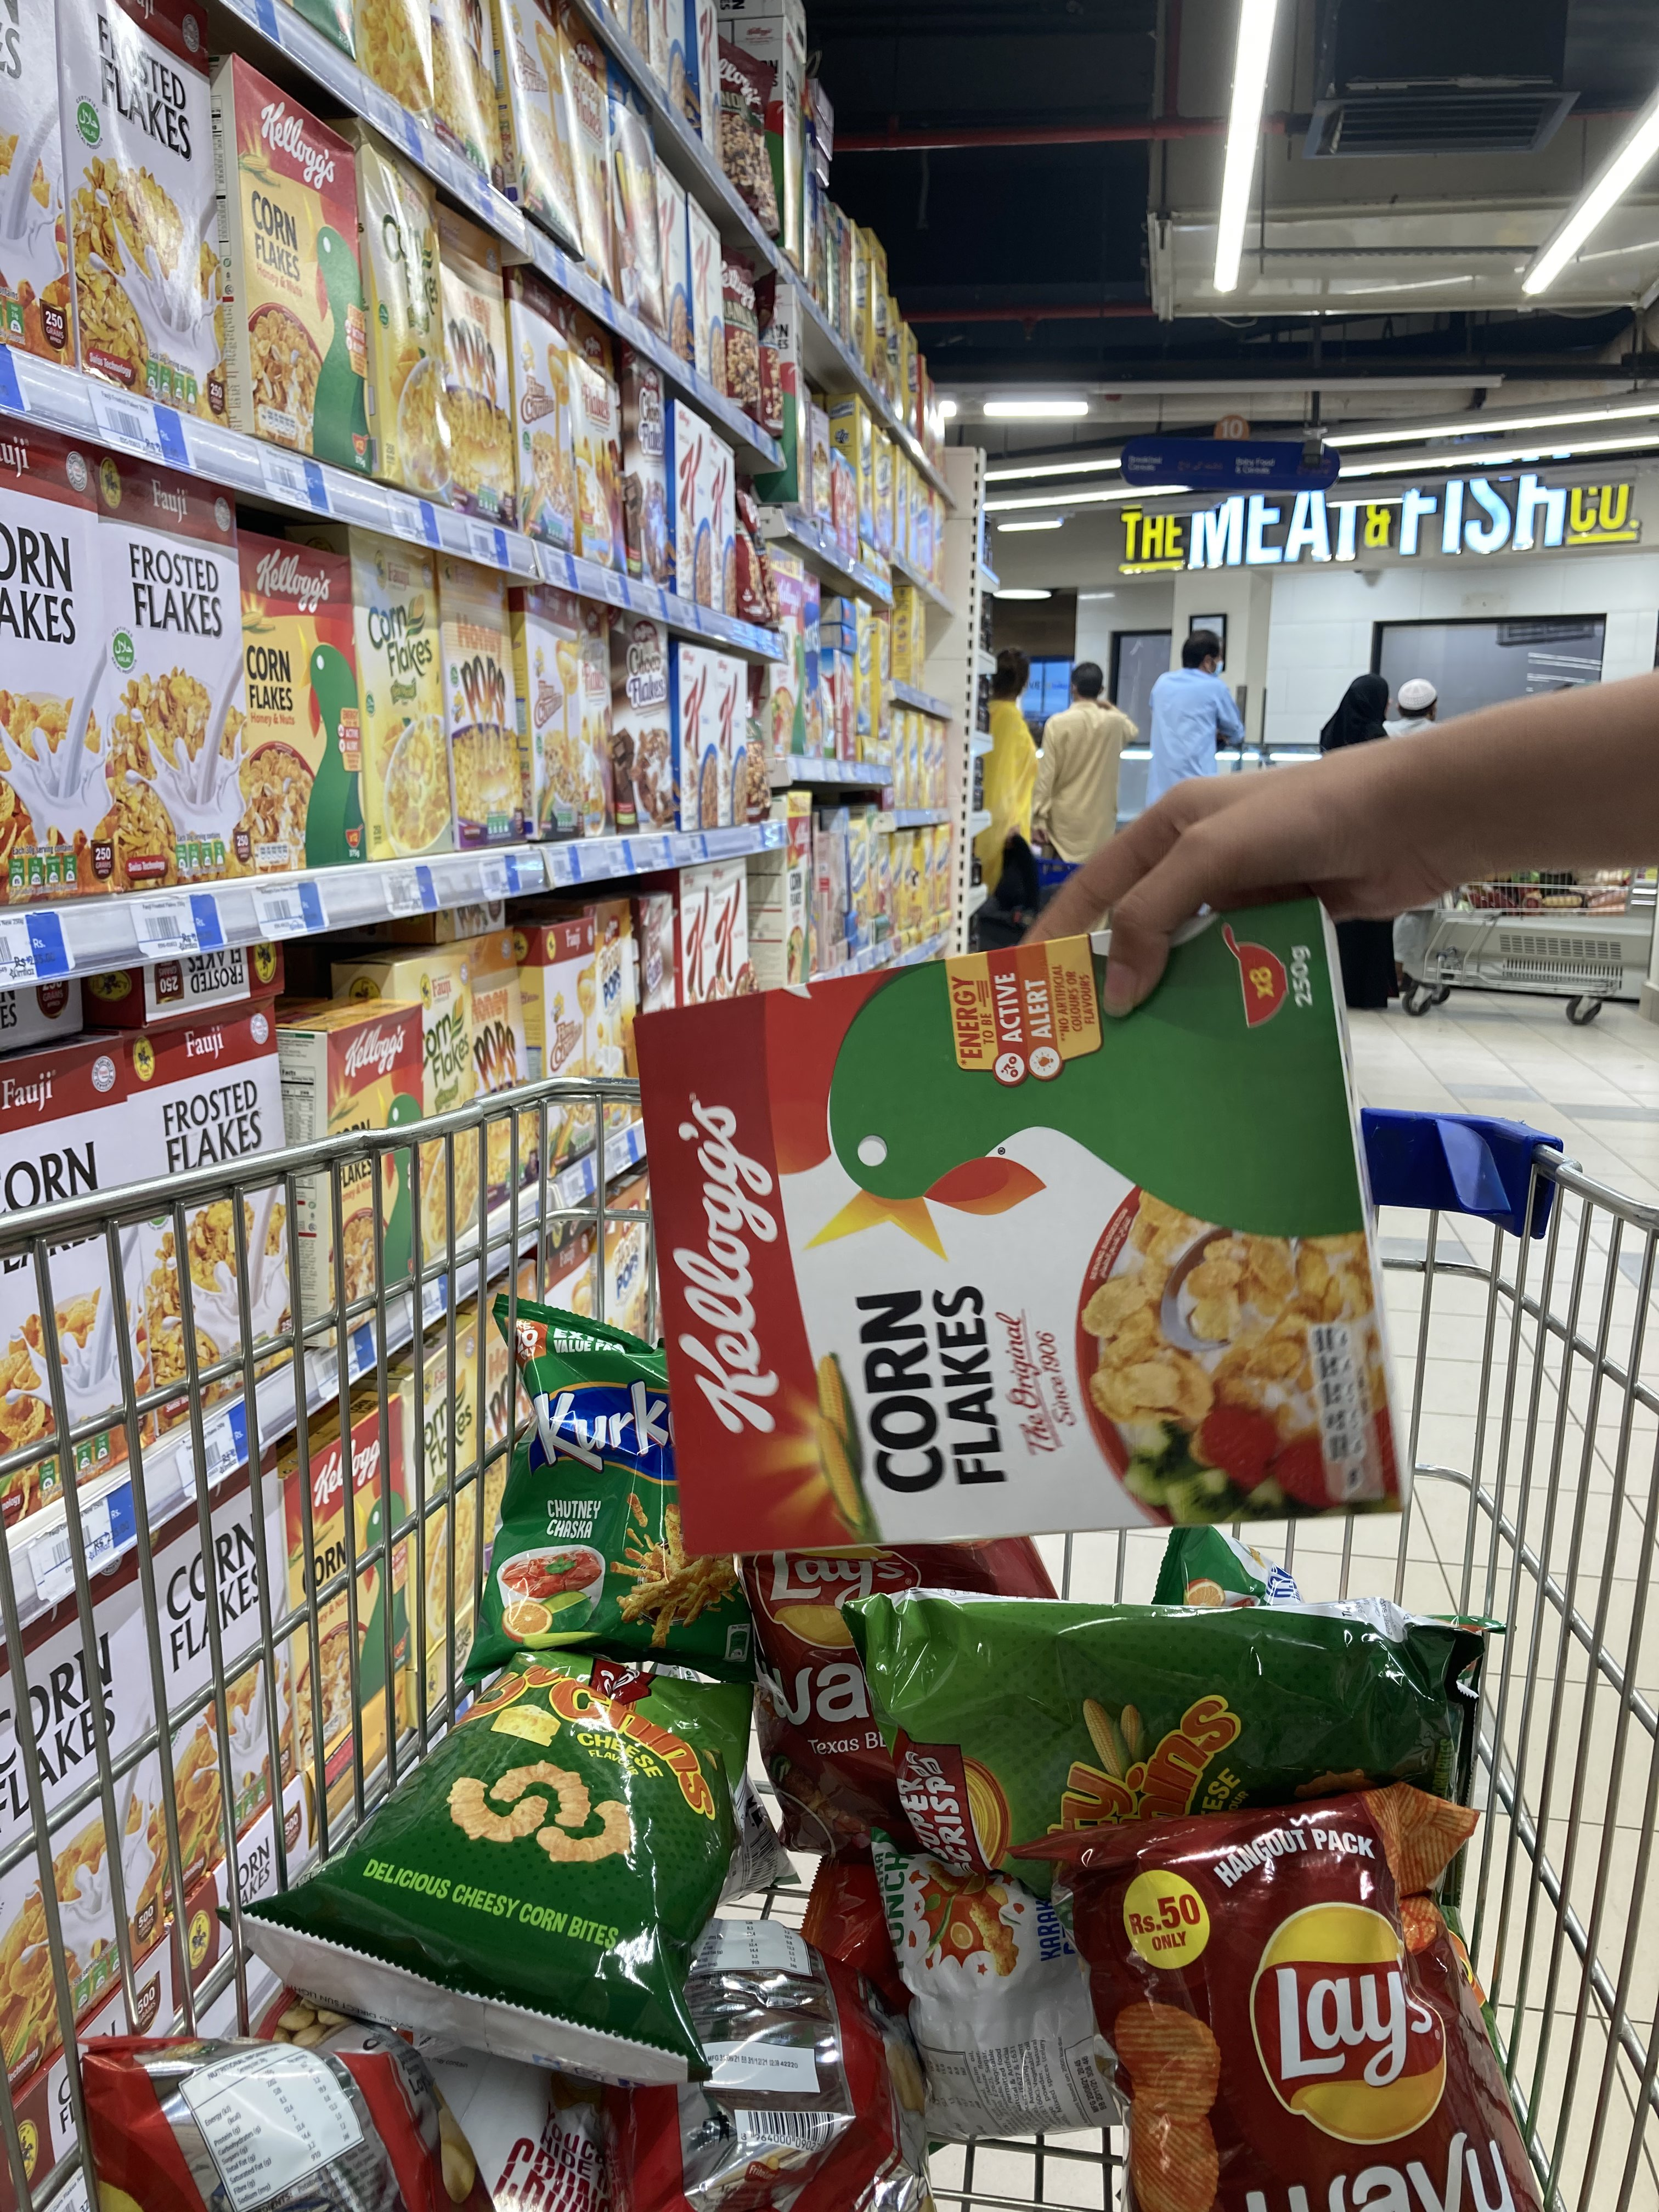Kellogg's Corn Flakes: (629, 897, 1417, 1576)
